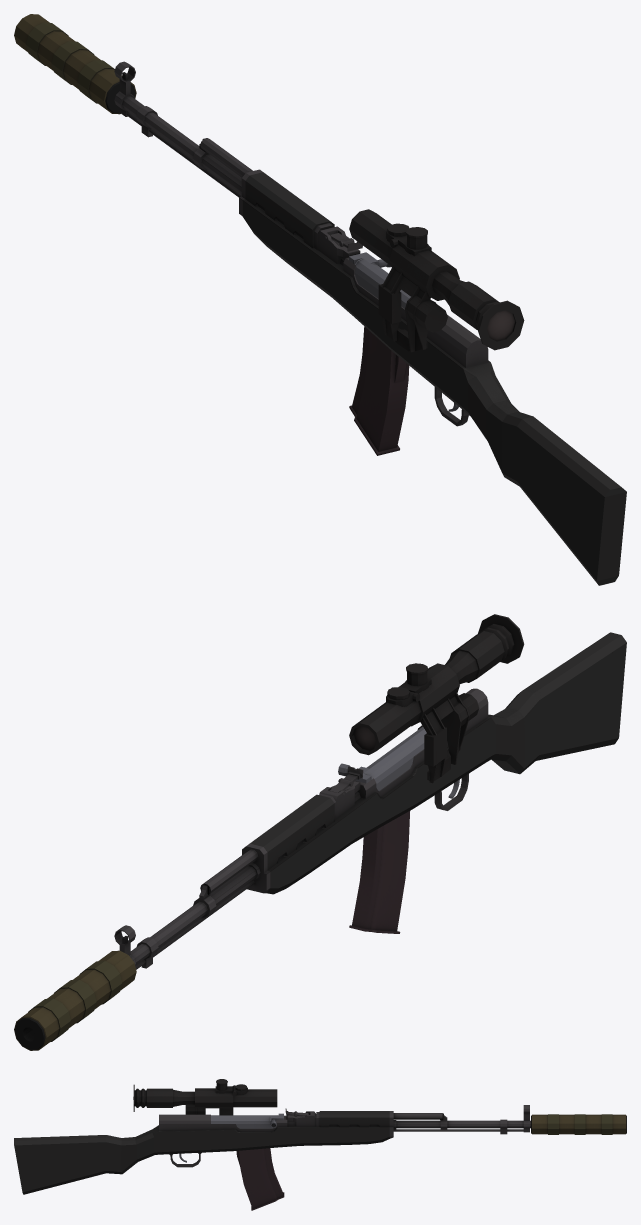
The model's file is sks_tactical.glb.
3 views of the same model, one above another, from view 1: azimuth 30°, elevation 25°; view 2: azimuth 150°, elevation 25°; view 3: azimuth 270°, elevation 25° (orthographic). The views are drawn at different scales.
Visible parts, largest first — view 1: Body_Polymer_lambert9_0, PSO_AK_Platform:AK_Platform_Accesories_mat_0, Magazine_mid_Bakelite_Plum_AK_Platform:AK_Platforms_Magazine, Suppressor_Cloth_AK_Platform:AK_Platform_Accesories_mat_0, Barrel_Long_lambert8_0, Slide_lambert8_0; view 2: Body_Polymer_lambert9_0, PSO_AK_Platform:AK_Platform_Accesories_mat_0, Suppressor_Cloth_AK_Platform:AK_Platform_Accesories_mat_0, Magazine_mid_Bakelite_Plum_AK_Platform:AK_Platforms_Magazine, Barrel_Long_lambert8_0, Slide_lambert8_0; view 3: Body_Polymer_lambert9_0, PSO_AK_Platform:AK_Platform_Accesories_mat_0, Barrel_Long_lambert8_0, Suppressor_Cloth_AK_Platform:AK_Platform_Accesories_mat_0, Magazine_mid_Bakelite_Plum_AK_Platform:AK_Platforms_Magazine, Slide_lambert8_0.
Boxes of the visible parts, left/top/right/bottom form: Body_Polymer_lambert9_0: left=239, top=169, right=626, bottom=585; PSO_AK_Platform:AK_Platform_Accesories_mat_0: left=349, top=209, right=524, bottom=352; Magazine_mid_Bakelite_Plum_AK_Platform:AK_Platforms_Magazine: left=349, top=326, right=409, bottom=455; Suppressor_Cloth_AK_Platform:AK_Platform_Accesories_mat_0: left=14, top=14, right=136, bottom=114; Barrel_Long_lambert8_0: left=114, top=61, right=252, bottom=197; Slide_lambert8_0: left=349, top=252, right=410, bottom=308; Body_Polymer_lambert9_0: left=242, top=632, right=626, bottom=894; PSO_AK_Platform:AK_Platform_Accesories_mat_0: left=349, top=614, right=524, bottom=783; Suppressor_Cloth_AK_Platform:AK_Platform_Accesories_mat_0: left=14, top=950, right=136, bottom=1050; Magazine_mid_Bakelite_Plum_AK_Platform:AK_Platforms_Magazine: left=349, top=811, right=409, bottom=933; Barrel_Long_lambert8_0: left=114, top=849, right=260, bottom=969; Slide_lambert8_0: left=338, top=726, right=426, bottom=790; Body_Polymer_lambert9_0: left=14, top=1111, right=393, bottom=1194; PSO_AK_Platform:AK_Platform_Accesories_mat_0: left=133, top=1079, right=277, bottom=1115; Barrel_Long_lambert8_0: left=393, top=1105, right=530, bottom=1134; Suppressor_Cloth_AK_Platform:AK_Platform_Accesories_mat_0: left=531, top=1114, right=626, bottom=1134; Magazine_mid_Bakelite_Plum_AK_Platform:AK_Platforms_Magazine: left=236, top=1148, right=284, bottom=1210; Slide_lambert8_0: left=211, top=1113, right=283, bottom=1128.
Size of the model in its own units: 4.96 by 21.15 by 92.78.
Materials: 4 (4 with a texture image).
